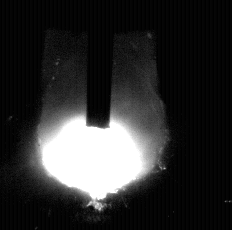arame: (88, 0, 112, 129)
poca: (38, 0, 167, 230)
